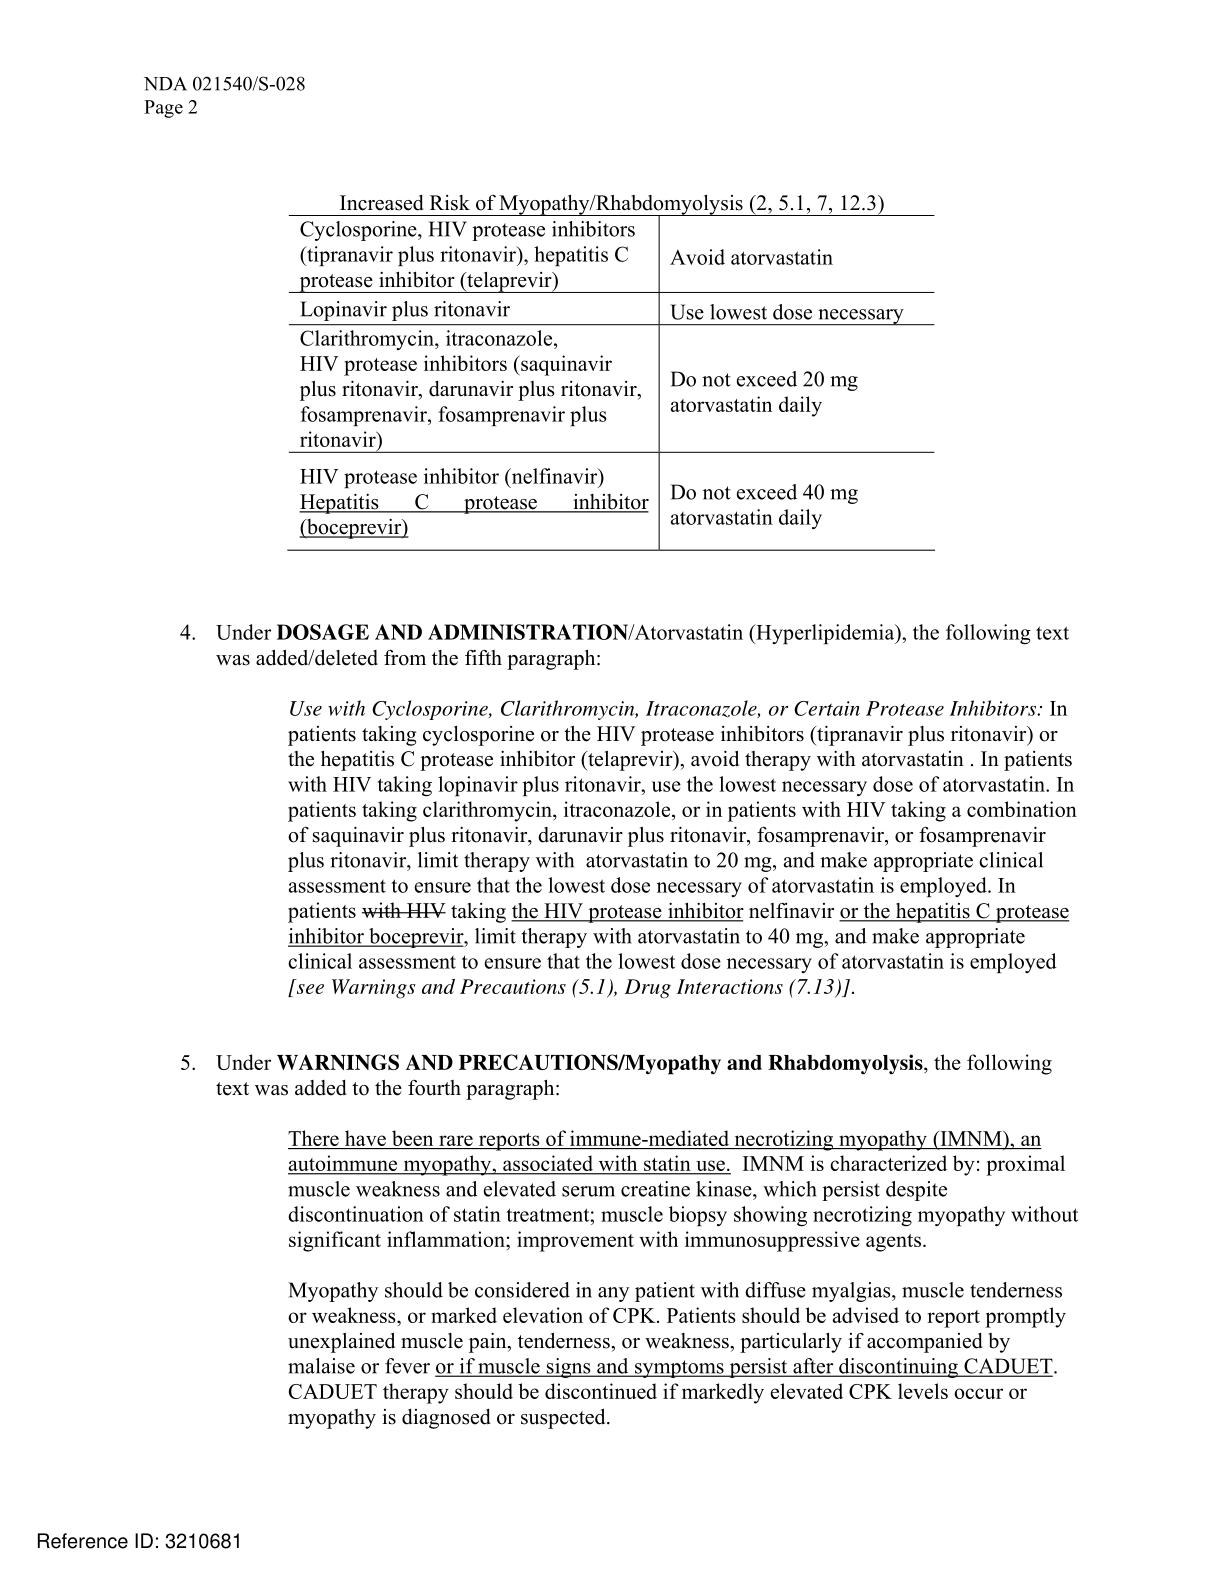partial_lined: (287, 211, 942, 552)
